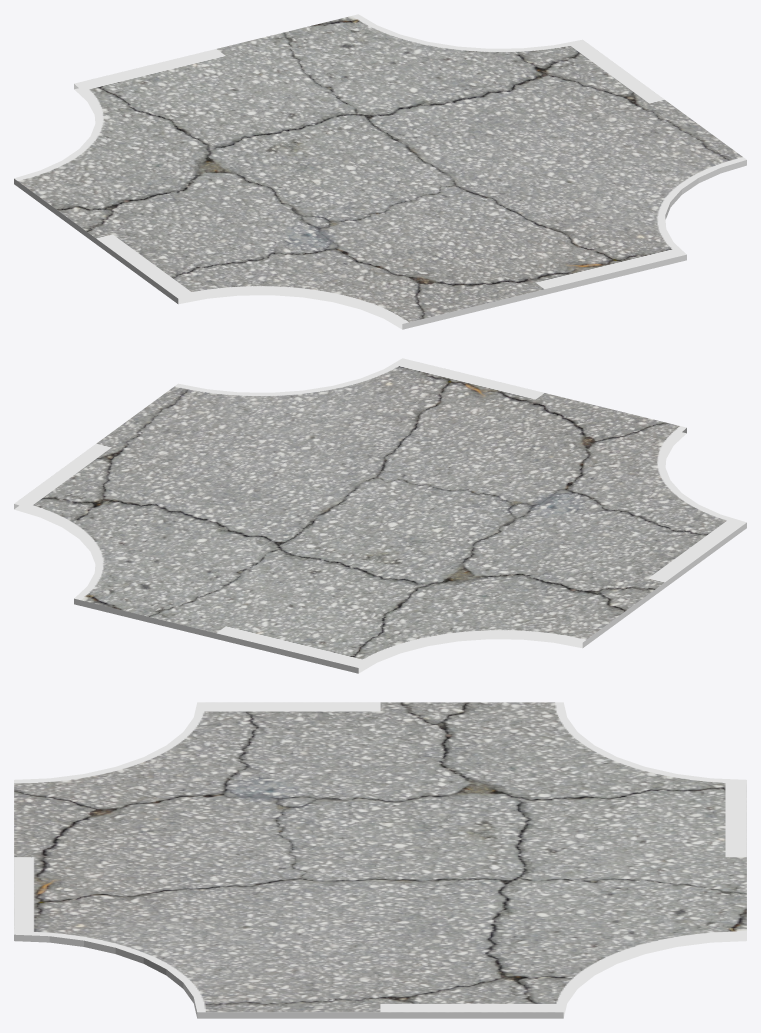
File: road_intersection.dae
3 renders of one model, top to bottom at view 1: azimuth 30°, elevation 25°; view 2: azimuth 150°, elevation 25°; view 3: azimuth 270°, elevation 25°, orthographic. The views are drawn at different scales.
Visible parts, largest first — view 1: Cube; view 2: Cube; view 3: Cube.
Boxes of the visible parts, left/top/right/bottom form: Cube: left=14, top=14, right=746, bottom=329; Cube: left=14, top=358, right=746, bottom=673; Cube: left=14, top=702, right=746, bottom=1018.
Bounding box in the file's own units: 10.4 × 10.4 × 0.1.
Materials: 1 (1 with a texture image).
